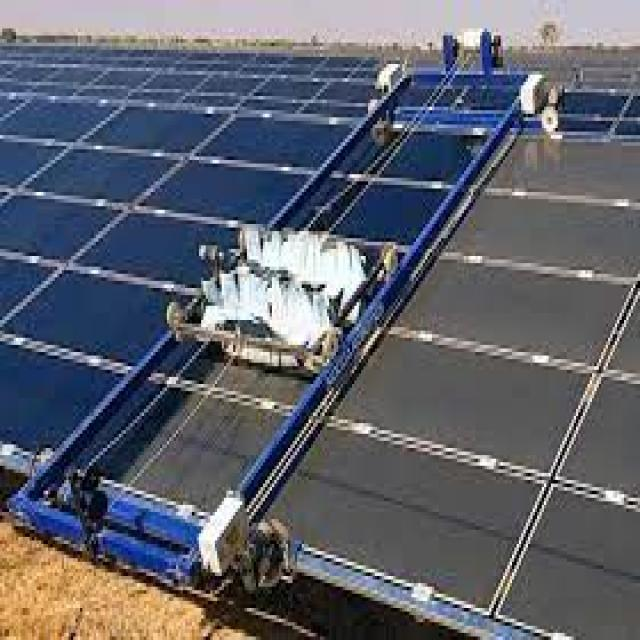clean-solar-panel: (0, 58, 521, 493)
dust-solar-panel: (271, 138, 640, 607), (505, 299, 640, 638), (142, 397, 281, 506)
